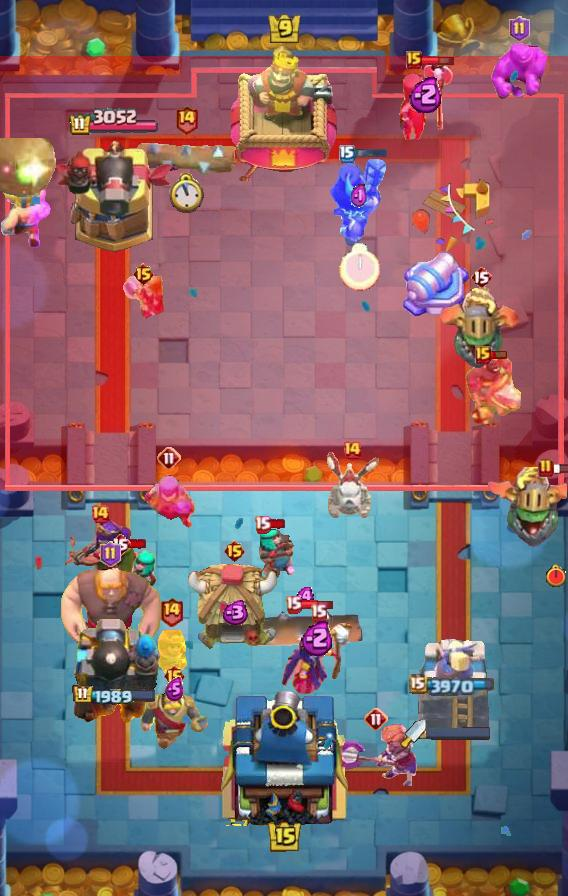axe: (280, 621, 356, 695)
balloon: (56, 565, 164, 657)
bar: (416, 637, 490, 731)
barbarian-hut: (60, 515, 140, 603)
bomber-evolution: (154, 630, 191, 678)
electro-spirit: (408, 75, 444, 113), (301, 620, 335, 657), (219, 600, 249, 625), (350, 182, 368, 210), (164, 677, 184, 701), (296, 587, 316, 606)
elixir: (340, 243, 381, 291), (169, 174, 204, 215), (545, 564, 567, 588)
emote: (298, 597, 334, 610), (421, 53, 456, 66), (352, 148, 387, 160), (269, 518, 288, 530), (129, 538, 148, 550), (488, 348, 508, 359), (552, 462, 568, 474)
firecracker: (139, 691, 209, 748)
freeze: (464, 353, 530, 429)
goblin-giant: (1, 183, 52, 249)
hog-rider: (121, 275, 165, 323)
inferno-dragon: (330, 153, 388, 247)
king-tower: (214, 684, 354, 826), (231, 45, 337, 181)
king-tower-bar: (426, 727, 490, 740)
mini-pekka: (322, 449, 382, 523)
minion: (245, 608, 367, 652), (135, 138, 238, 176)
night-witch: (438, 287, 524, 369), (486, 467, 568, 547)
prince: (187, 562, 281, 652)
rascal-boy: (396, 62, 456, 146)
rascal-girl: (141, 471, 197, 531)
royal-recruit: (401, 248, 472, 324)
selected: (68, 108, 160, 137), (71, 685, 156, 708), (409, 674, 497, 696)
tesla-evolution: (334, 722, 418, 790)
text: (174, 105, 199, 136), (160, 597, 185, 628), (157, 446, 181, 470), (364, 707, 388, 731), (509, 16, 531, 42), (99, 541, 121, 567), (132, 262, 155, 286), (223, 539, 246, 563), (162, 664, 185, 688), (470, 265, 492, 289), (109, 532, 131, 556), (342, 440, 362, 460), (90, 504, 110, 524), (309, 603, 327, 622), (254, 514, 271, 533), (538, 458, 554, 478), (286, 595, 303, 613), (406, 51, 422, 69), (339, 145, 355, 163), (475, 346, 491, 364)
tornado: (491, 41, 547, 101)
tower-bar: (53, 138, 175, 256), (67, 611, 161, 731)
witch: (115, 547, 159, 595), (257, 527, 297, 579)
x-bow: (0, 138, 67, 200)
